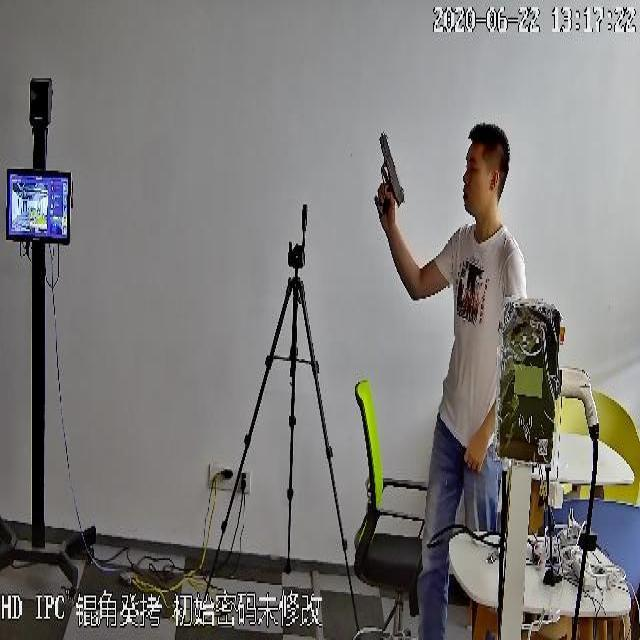pistol: (374, 128, 404, 232)
